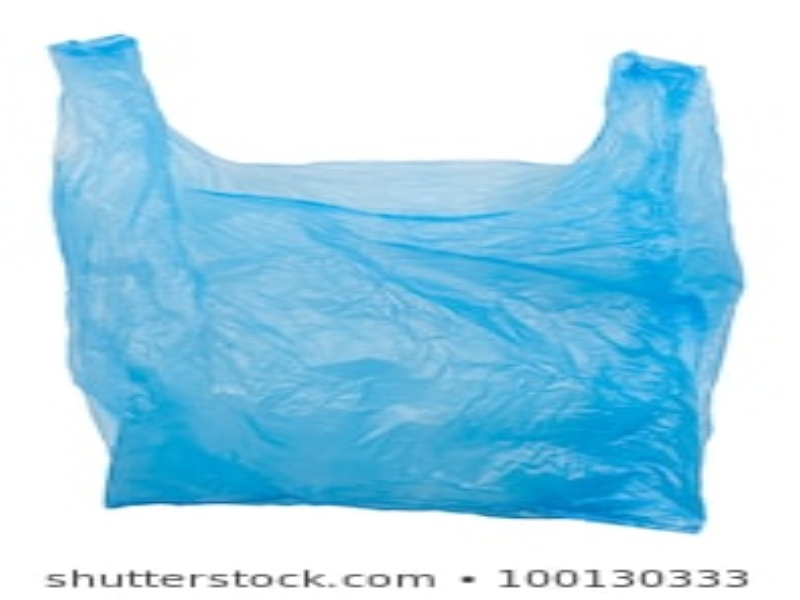plastic-bag: (46, 33, 755, 538)
